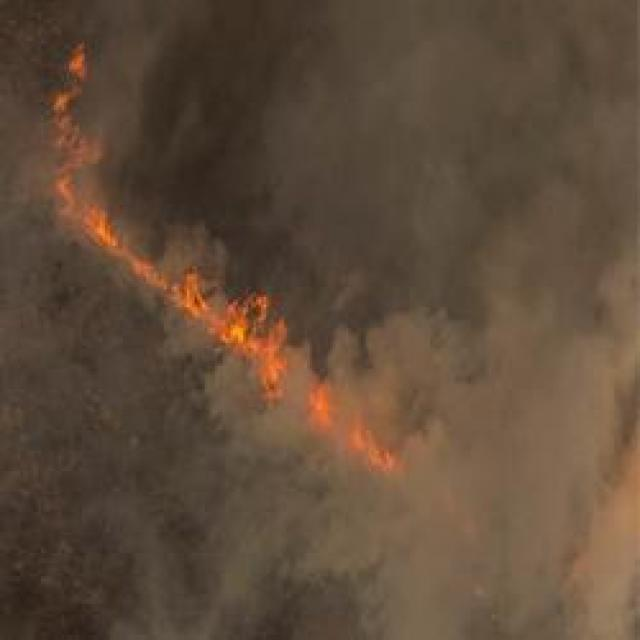fire: (45, 38, 396, 480)
